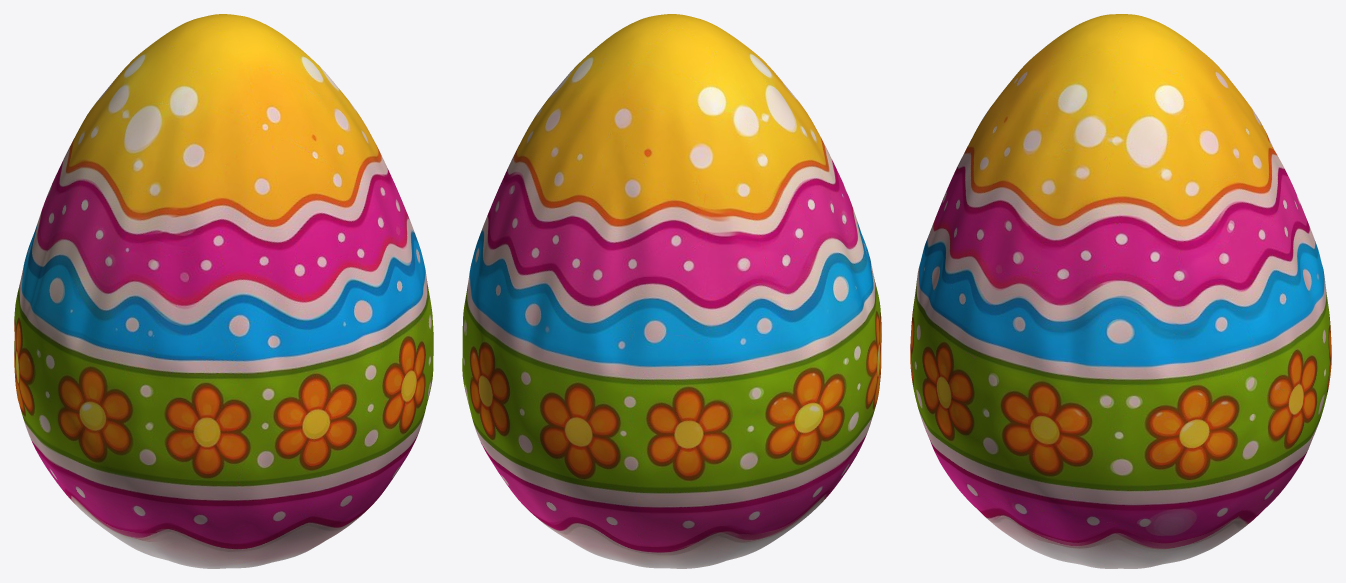
File: easter_egg.glb
3 views of the same model, side by side, from view 1: azimuth 30°, elevation 25°; view 2: azimuth 150°, elevation 25°; view 3: azimuth 270°, elevation 25° (orthographic).
Bounding box in the file's own units: 1.38 × 1.91 × 1.38.
1 material, 1 textured.
